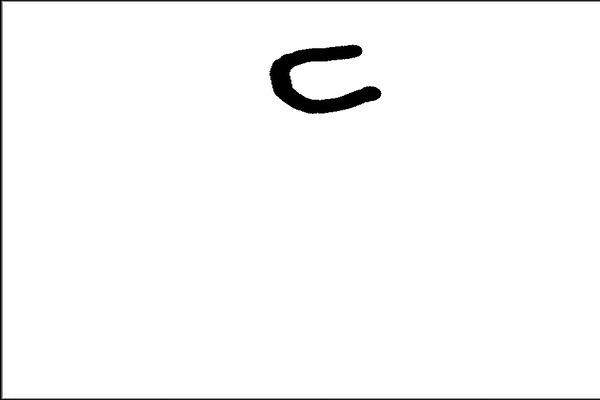C: (260, 37, 387, 117)
